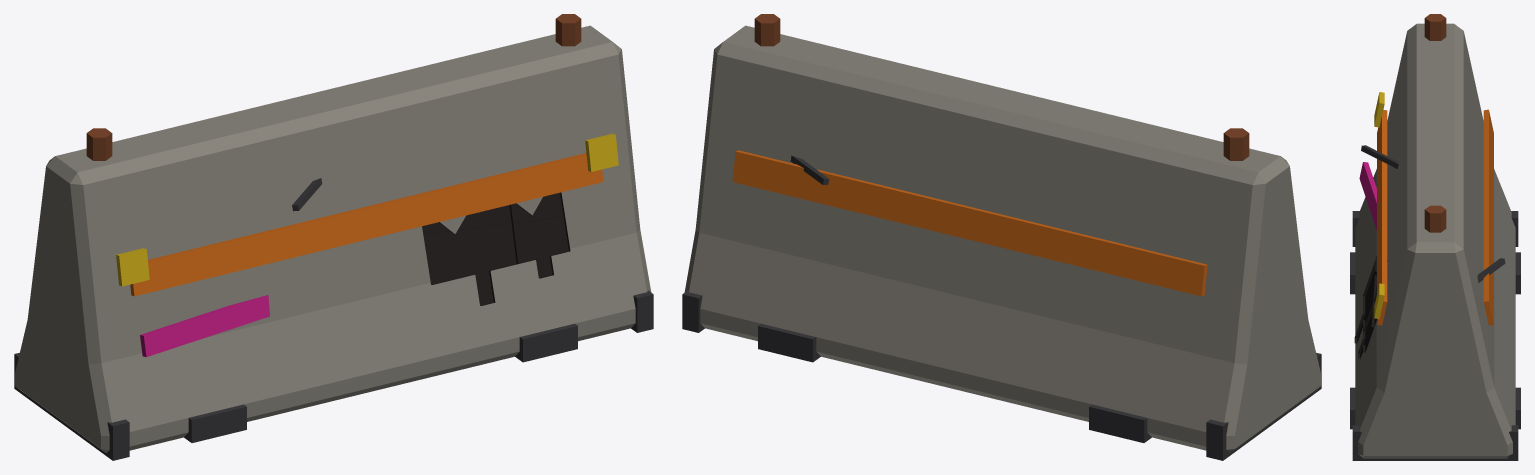
The model's file is c_barrier_chunks.glb.
The picture shows the model from 3 angles, left to right: view 1: azimuth 30°, elevation 25°; view 2: azimuth 150°, elevation 25°; view 3: azimuth 270°, elevation 25°; orthographic projection. The views are drawn at different scales.
Visible parts, largest first — view 1: chunk_3, chunk_2, chunk_0, chunk_7, chunk_5, chunk_6, chunk_4, chunk_1; view 2: chunk_3, chunk_0, chunk_7, chunk_5, chunk_1, chunk_2, chunk_4, chunk_6; view 3: chunk_7, chunk_6, chunk_3, chunk_5, chunk_1, chunk_0, chunk_2, chunk_4.
Boxes of the visible parts, x1,y1,x2,y2 form: chunk_3: [129, 81, 404, 266]; chunk_2: [176, 235, 400, 435]; chunk_0: [14, 257, 224, 460]; chunk_7: [470, 14, 637, 223]; chunk_5: [362, 55, 513, 235]; chunk_6: [510, 202, 653, 362]; chunk_4: [391, 223, 523, 386]; chunk_1: [35, 128, 176, 274]; chunk_3: [949, 79, 1215, 281]; chunk_0: [1073, 243, 1321, 460]; chunk_7: [696, 14, 865, 246]; chunk_5: [818, 55, 966, 262]; chunk_1: [1123, 128, 1298, 296]; chunk_2: [961, 262, 1128, 419]; chunk_4: [812, 246, 972, 393]; chunk_6: [682, 225, 826, 362]; chunk_7: [1371, 193, 1501, 389]; chunk_6: [1350, 302, 1520, 460]; chunk_3: [1361, 50, 1493, 242]; chunk_5: [1373, 149, 1505, 300]; chunk_1: [1375, 14, 1493, 164]; chunk_0: [1350, 101, 1520, 294]; chunk_2: [1350, 136, 1515, 334]; chunk_4: [1354, 259, 1520, 387].
Bounding box in the file's own units: 2 × 0.98 × 0.64.
